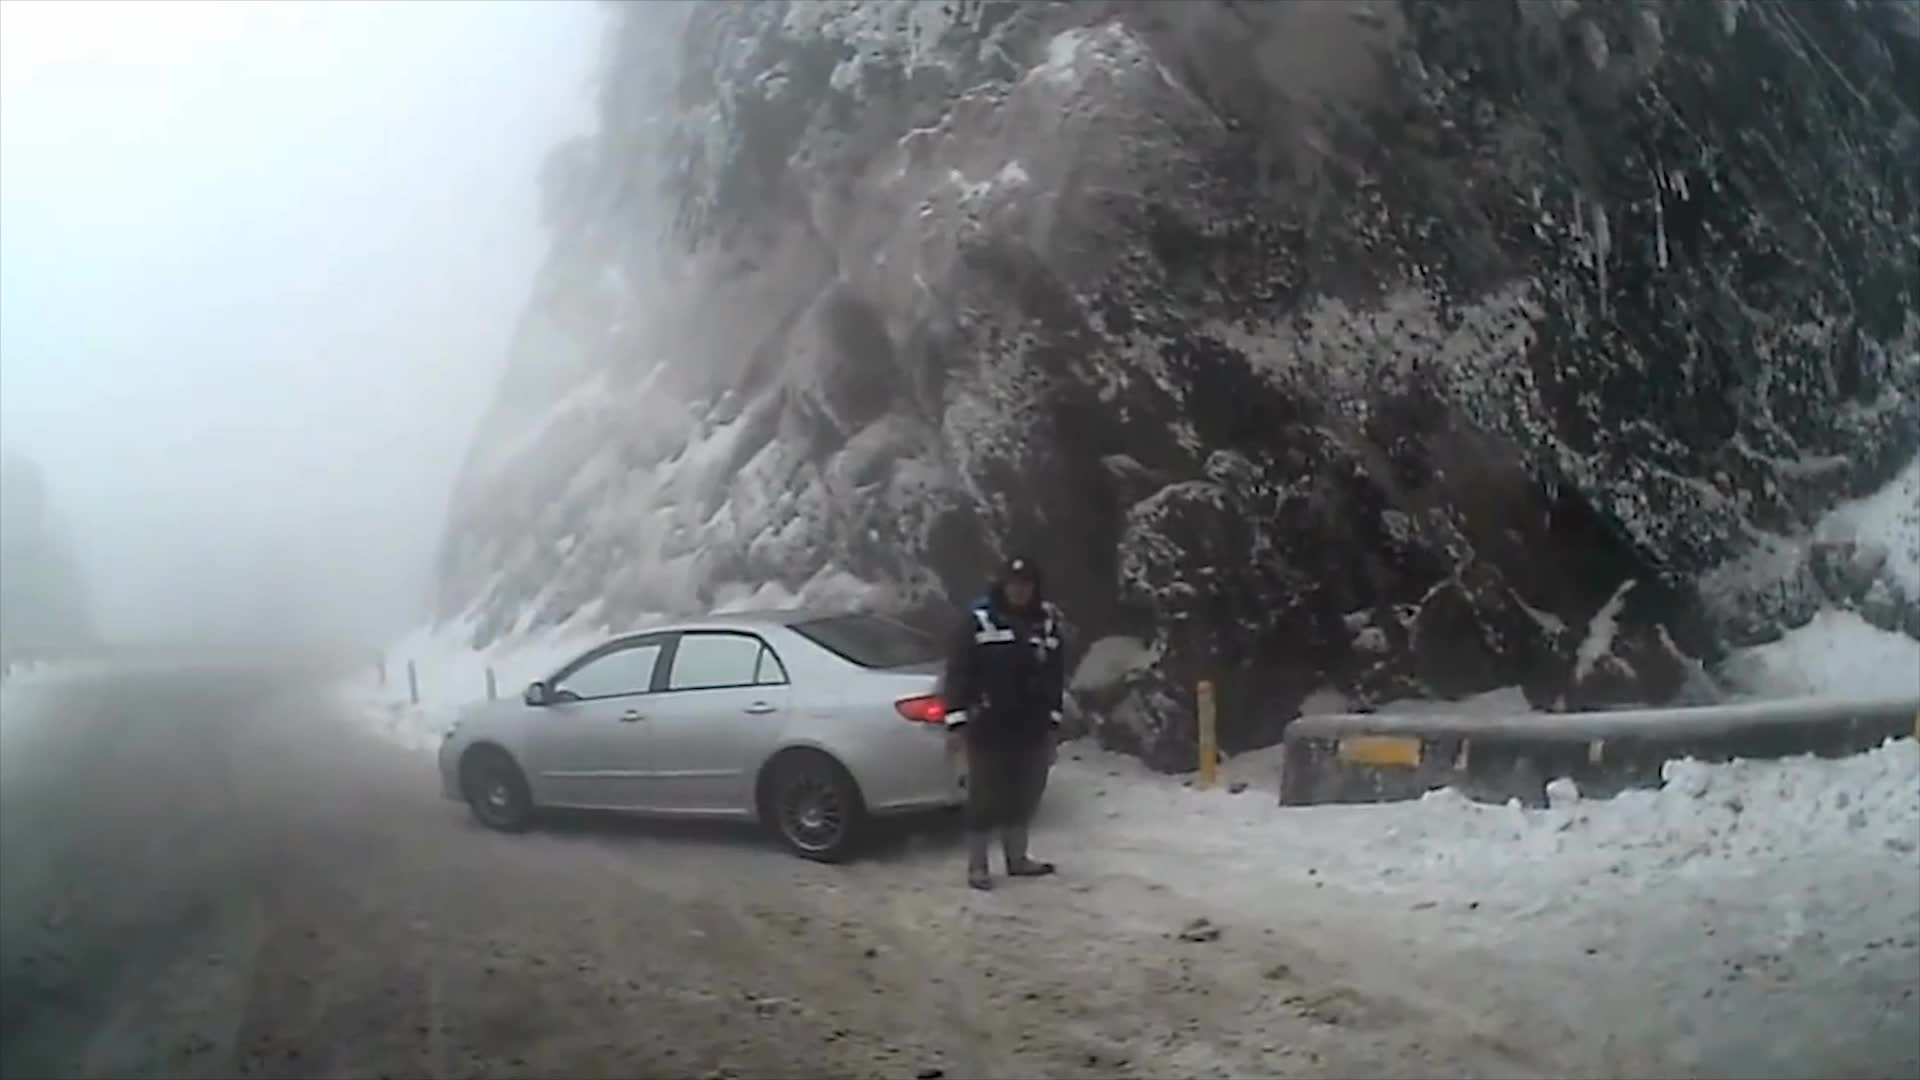pedestrian: (939, 570, 1065, 905)
vehicle: (436, 608, 1063, 862)
